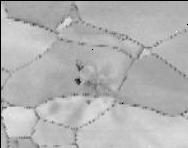good_void: (72, 77, 82, 85), (75, 62, 83, 71), (84, 99, 91, 105)
